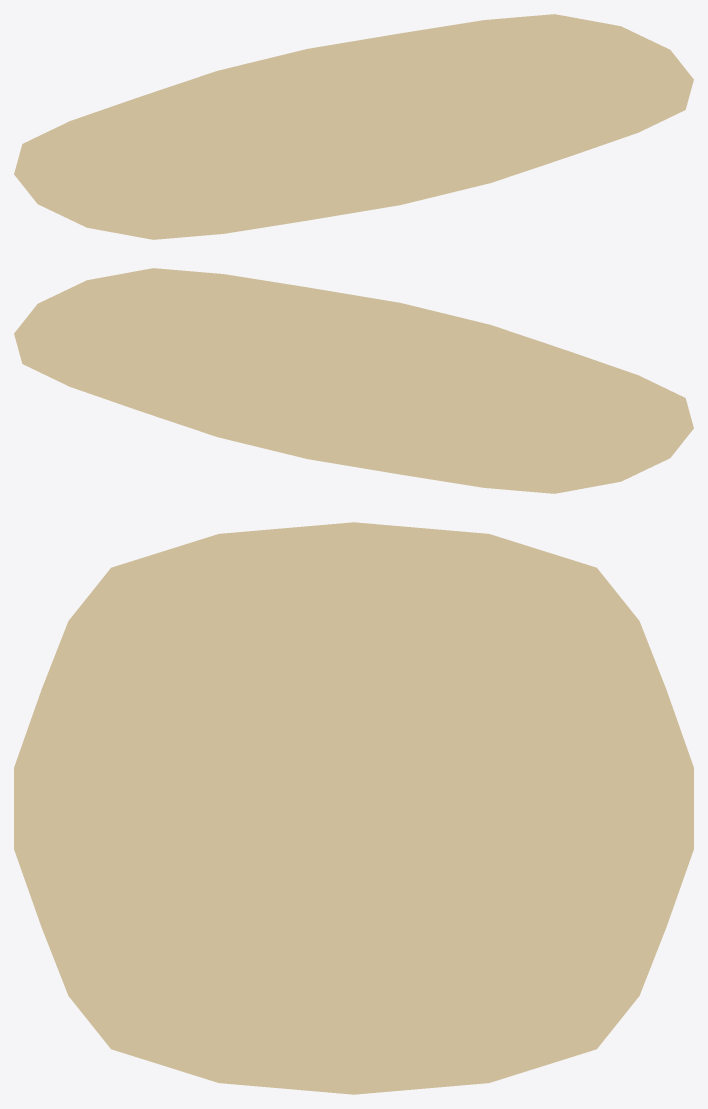
The model's file is WaterOfBathrrom.fbx.
3 views of the same model, one above another, from view 1: azimuth 30°, elevation 25°; view 2: azimuth 150°, elevation 25°; view 3: azimuth 270°, elevation 25° (orthographic). The views are drawn at different scales.
Visible parts, largest first — view 1: Bathtub.001; view 2: Bathtub.001; view 3: Bathtub.001.
Boxes of the visible parts, box(x1,y1,x2,y2) form: Bathtub.001: box(14, 14, 693, 239); Bathtub.001: box(14, 268, 693, 493); Bathtub.001: box(14, 522, 693, 1094).
Size of the model in its own units: 55495 by 0.00994 by 27860.
